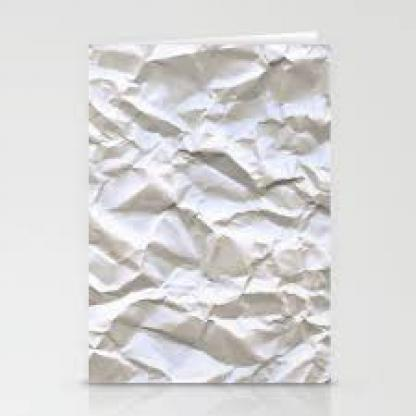paper: (85, 30, 329, 382)
